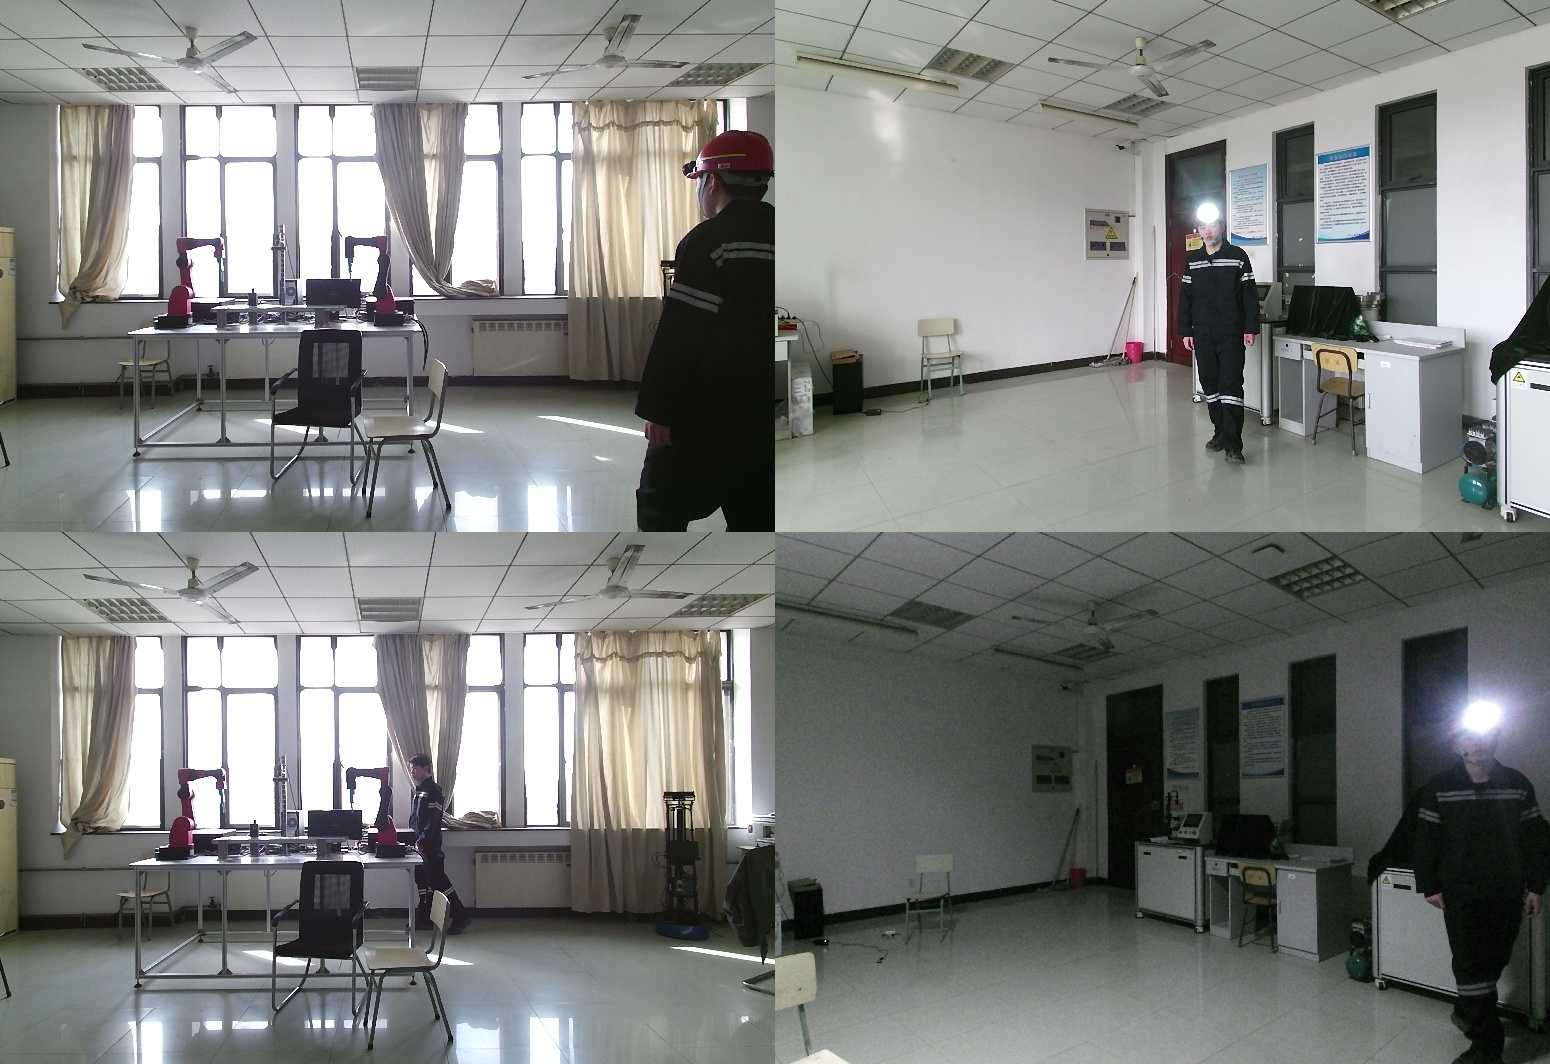person: (636, 131, 775, 532), (1419, 710, 1545, 1064), (1177, 204, 1272, 469), (407, 752, 470, 939)
